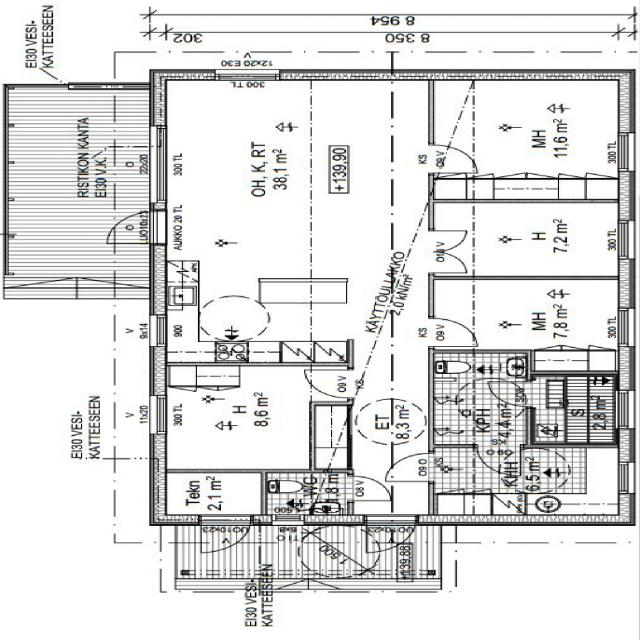door: (100, 211, 165, 244), (366, 514, 415, 557), (201, 514, 250, 557), (427, 145, 477, 173), (385, 454, 433, 482), (304, 370, 352, 398), (477, 444, 520, 475), (427, 319, 476, 346), (487, 381, 533, 406), (347, 476, 391, 501), (428, 251, 466, 273), (428, 230, 466, 252)
